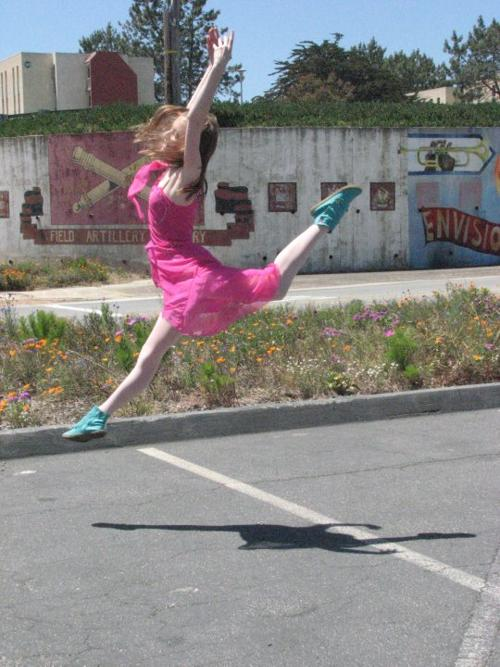person: (61, 31, 360, 446)
